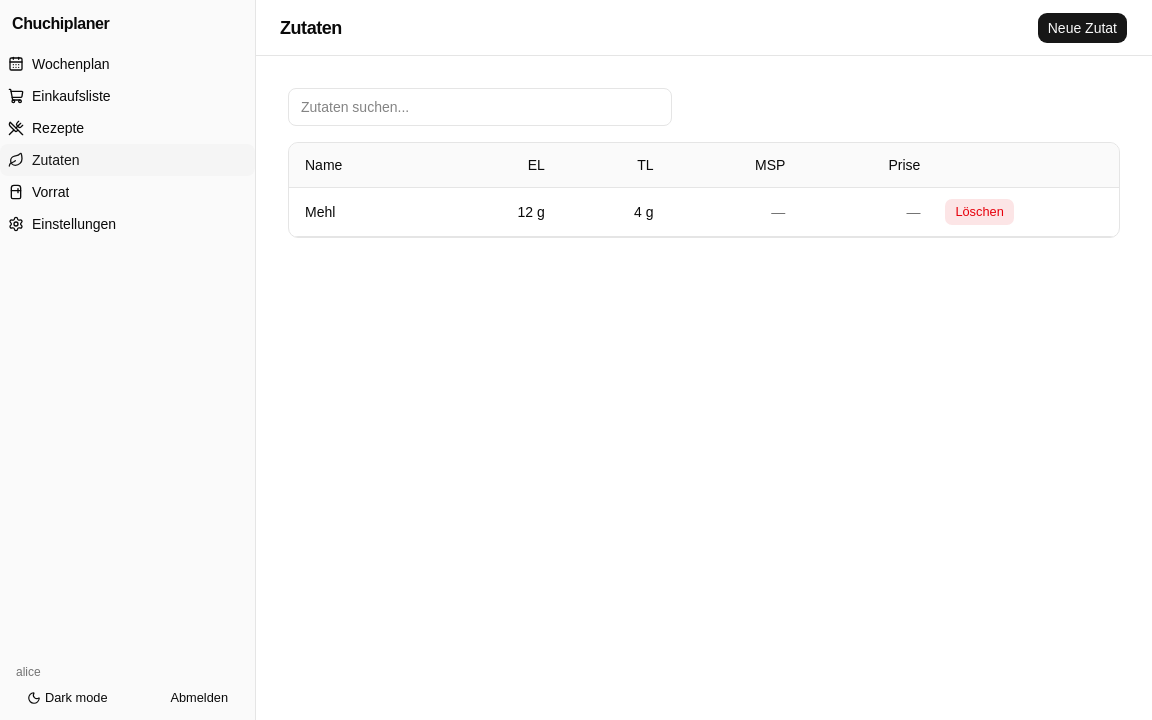
IngredientsPage › clicking a conversion cell with a value enters edit mode
Check: the text "Mehl" is shown, box [305,204,335,220]
Step 1. Click the text "12 g" → (525, 212), box [518,204,545,220]
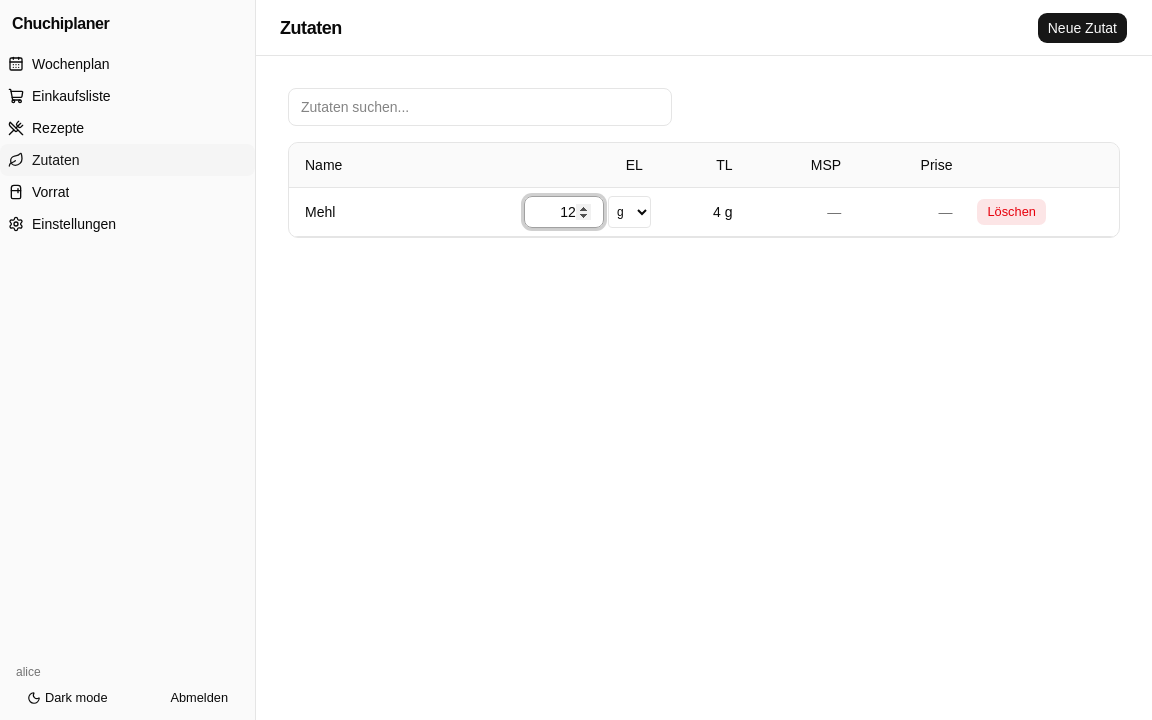
Check: the number field showing "12" is shown, box [524,196,604,228]
